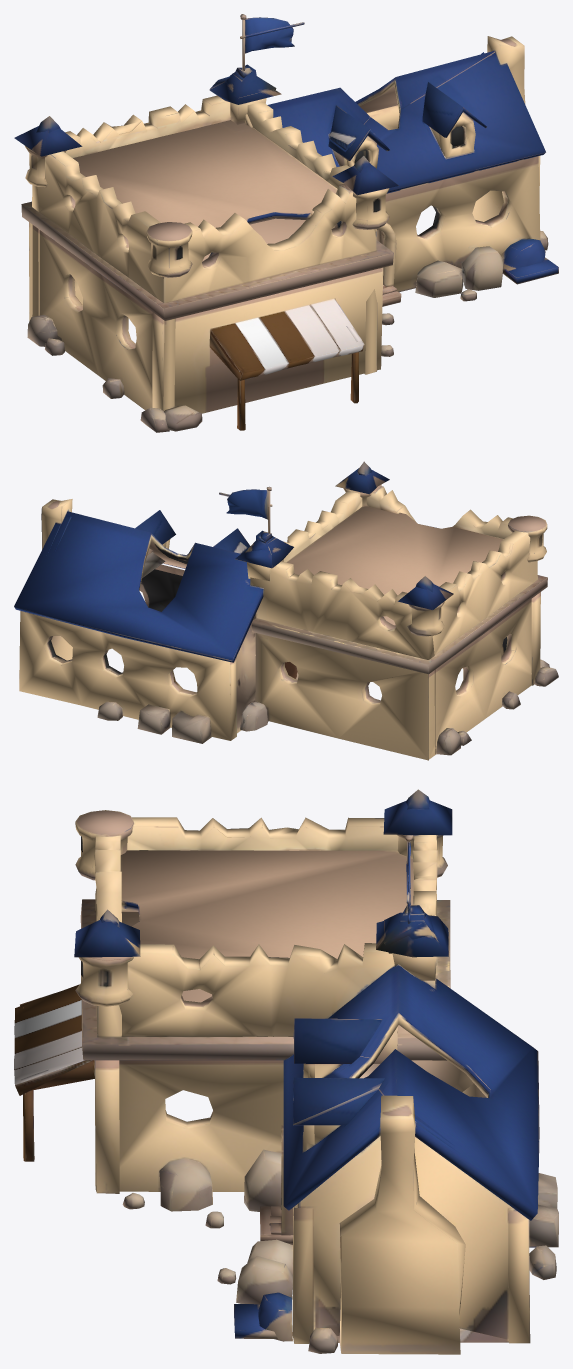
The model's file is meshy-c2-d2.glb.
3 renders of one model, top to bottom at view 1: azimuth 30°, elevation 25°; view 2: azimuth 150°, elevation 25°; view 3: azimuth 270°, elevation 25°, orthographic. The views are drawn at different scales.
Bounding box in the file's own units: 1 × 0.5364 × 0.7523.
1 material, 1 textured.
